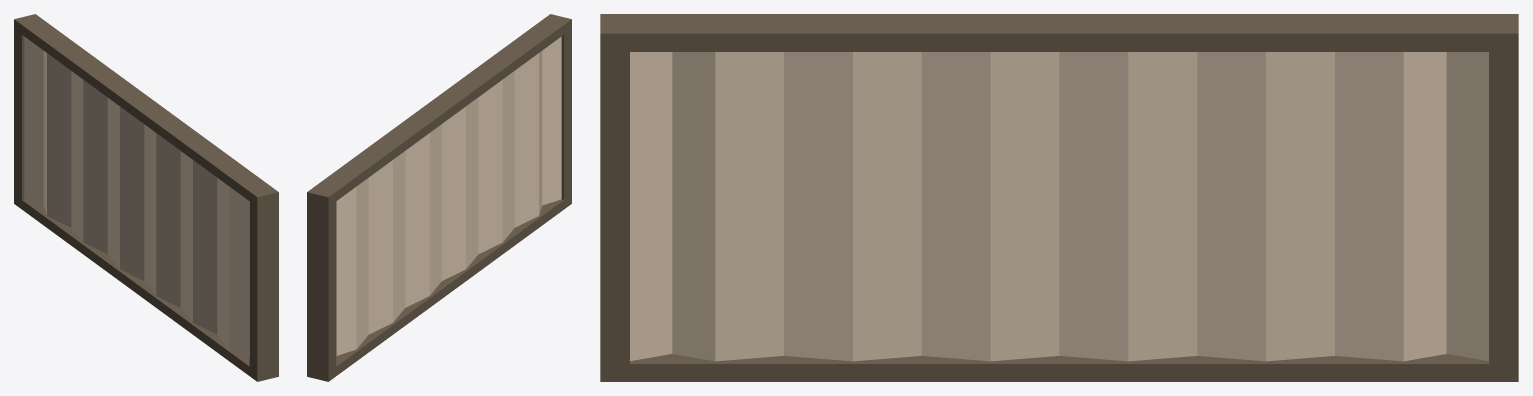
Rendered from gate.fbx.
3 renders of one model, left to right at view 1: azimuth 30°, elevation 25°; view 2: azimuth 150°, elevation 25°; view 3: azimuth 270°, elevation 25°, orthographic. The views are drawn at different scales.
Parts seen in each view (by area): view 1: Gate; view 2: Gate; view 3: Gate.
Boxes of the visible parts, x1,y1,x2,y2 form: Gate: (14, 14, 278, 381); Gate: (307, 14, 571, 381); Gate: (600, 14, 1518, 381).
Size of the model in its own units: 27.11 by 223 by 533.
